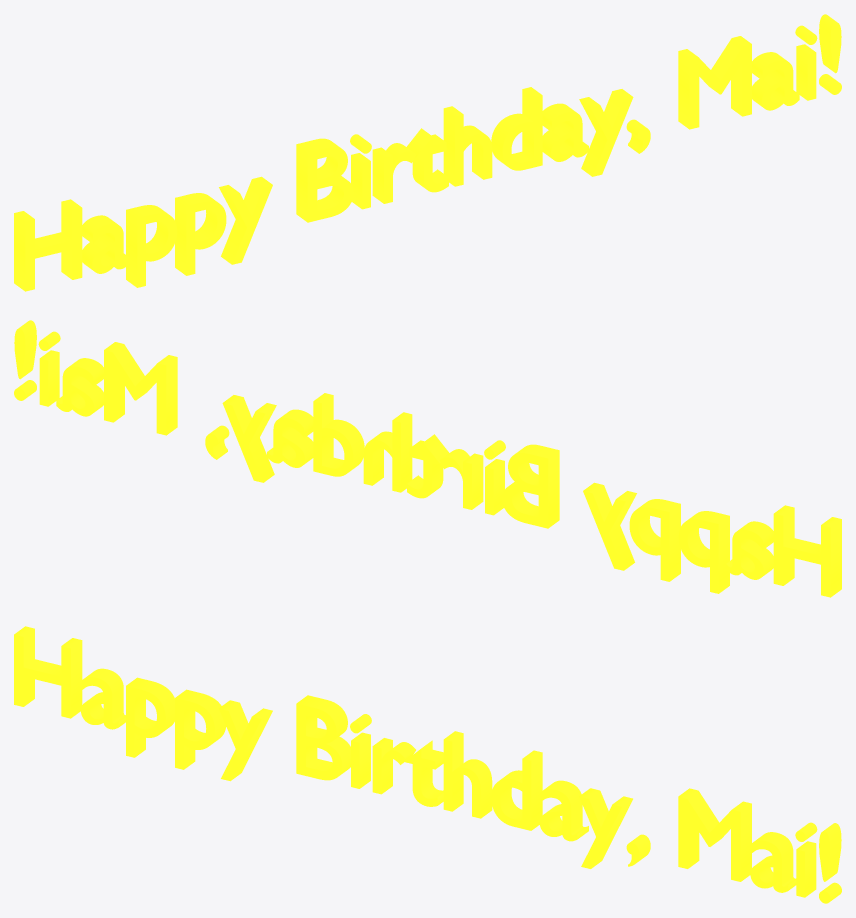
Rendered from happy_birthday.gltf.
3 views of the same model, one above another, from view 1: azimuth 30°, elevation 25°; view 2: azimuth 150°, elevation 25°; view 3: azimuth 330°, elevation 25° (orthographic).
Parts seen in each view (by area): view 1: Text; view 2: Text; view 3: Text.
Boxes of the visible parts, x1,y1,x2,y2 form: Text: [14, 14, 841, 291]; Text: [14, 320, 841, 597]; Text: [14, 626, 841, 903].
Bounding box in the file's own units: 8.3 × 0.921 × 0.2.
